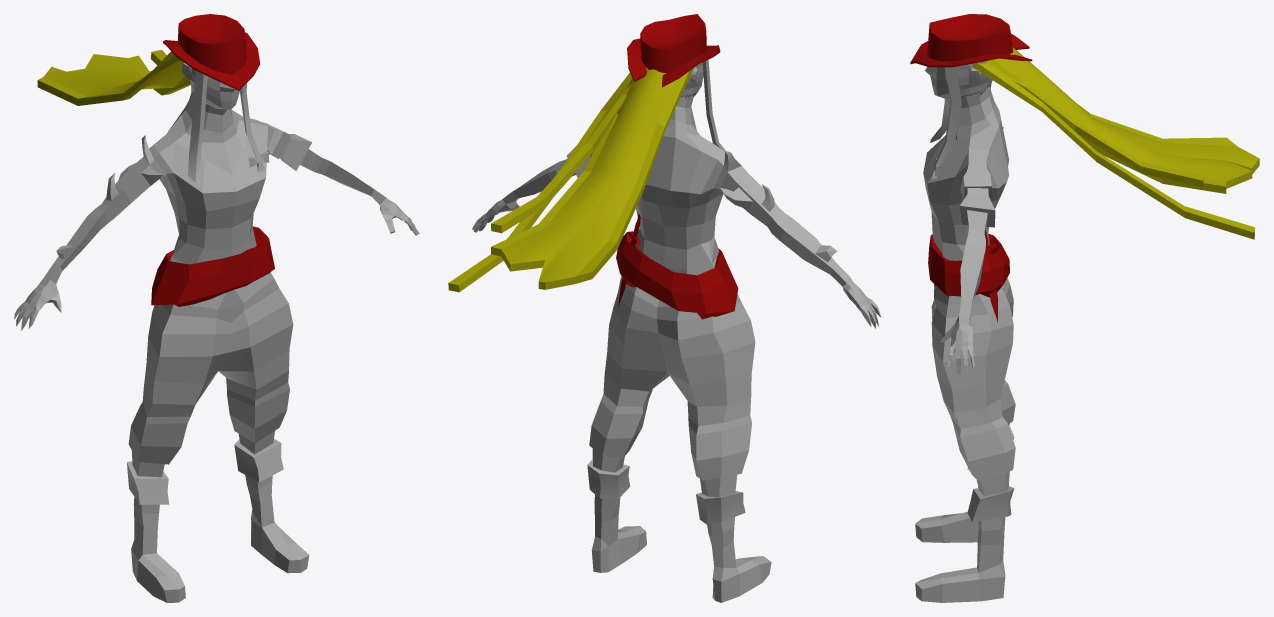
Rendered from ModeloPORFAFUNCA.fbx.
3 views of the same model, side by side, from view 1: azimuth 30°, elevation 25°; view 2: azimuth 150°, elevation 25°; view 3: azimuth 270°, elevation 25° (orthographic).
Parts seen in each view (by area): view 1: BaseMesh, PeloBase, DetalleCintura, Sombrero, Cabeza; view 2: BaseMesh, PeloBase, DetalleCintura, Sombrero, Mechon2, Mechon1, Cabeza; view 3: BaseMesh, PeloBase, Sombrero, Mechon1, Cabeza, DetalleCintura, Mechon2.
Part boxes in pixels (x1=…): BaseMesh: x1=14, y1=88, x2=419, y2=602; PeloBase: x1=37, y1=51, x2=187, y2=105; DetalleCintura: x1=151, y1=226, x2=274, y2=306; Sombrero: x1=163, y1=14, x2=259, y2=90; Cabeza: x1=181, y1=62, x2=269, y2=183; BaseMesh: x1=472, y1=95, x2=881, y2=602; PeloBase: x1=491, y1=67, x2=693, y2=289; DetalleCintura: x1=616, y1=231, x2=738, y2=319; Sombrero: x1=627, y1=14, x2=720, y2=87; Mechon2: x1=491, y1=83, x2=631, y2=233; Mechon1: x1=448, y1=73, x2=632, y2=292; Cabeza: x1=680, y1=59, x2=725, y2=150; BaseMesh: x1=915, y1=84, x2=1015, y2=602; PeloBase: x1=984, y1=47, x2=1259, y2=193; Sombrero: x1=910, y1=14, x2=1032, y2=67; Mechon1: x1=972, y1=62, x2=1254, y2=239; Cabeza: x1=925, y1=61, x2=992, y2=178; DetalleCintura: x1=928, y1=233, x2=1009, y2=297; Mechon2: x1=1010, y1=78, x2=1203, y2=187.
Bounding box in the file's own units: 82.65 × 108 × 62.75.
